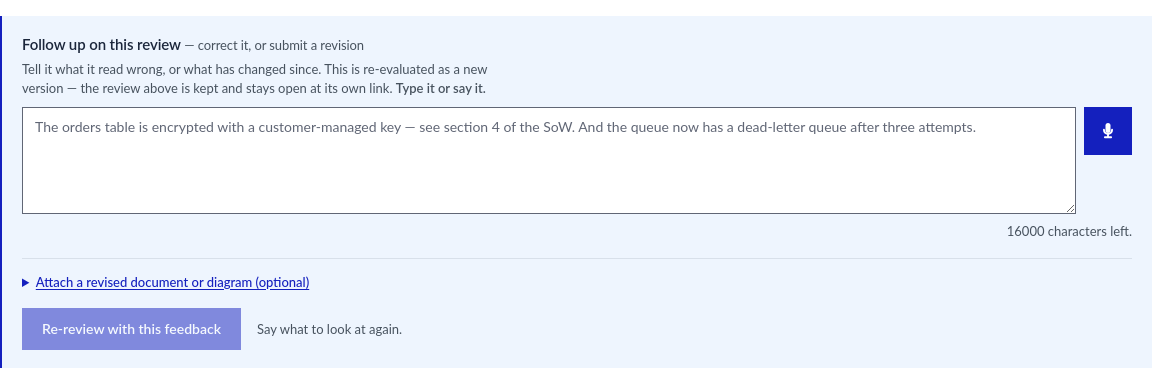
Test case: FeedbackBox — dictation › dictates into the same field the keyboard writes to
Click the button named "Speak your feedback": click(1108, 130) x1=1084 y1=106 x2=1132 y2=154
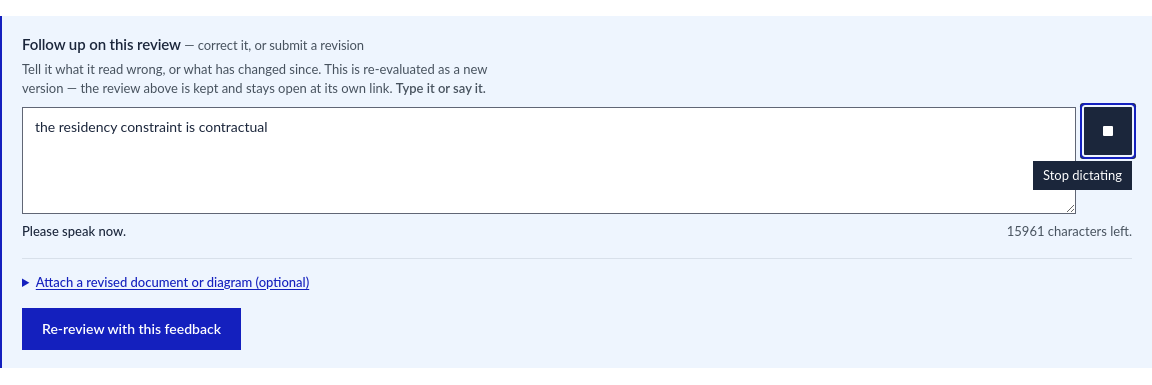
Check: the text box named "What this review got wrong, or what has changed" holds "the residency constraint is contractual", box x1=22 y1=106 x2=1076 y2=214
